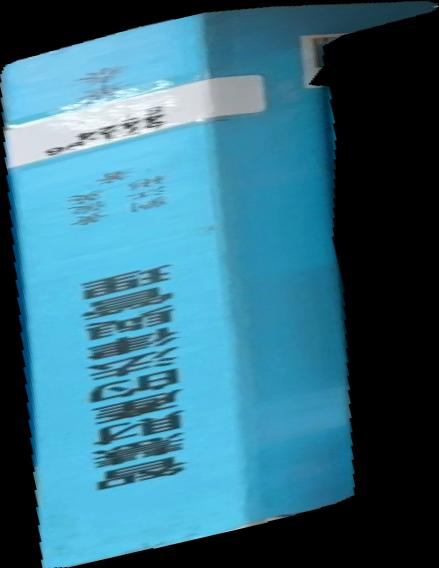reverse: (1, 1, 439, 568)
